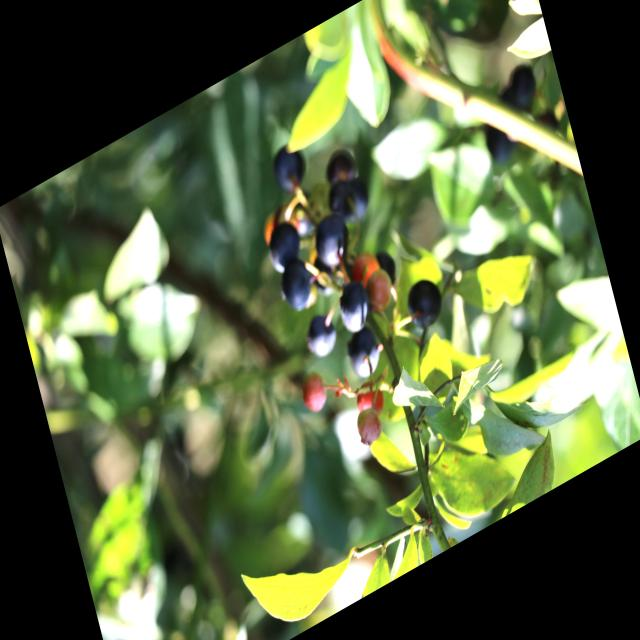blueberry: (273, 248, 318, 319), (344, 321, 393, 386), (312, 209, 356, 279), (260, 214, 306, 278), (402, 273, 447, 337), (299, 305, 343, 368), (334, 274, 374, 338), (270, 140, 311, 200), (328, 176, 370, 227), (318, 141, 360, 192)
blueberry-halfripe: (362, 263, 396, 317), (348, 248, 385, 295), (297, 368, 331, 419), (352, 402, 386, 451), (354, 376, 386, 423)
